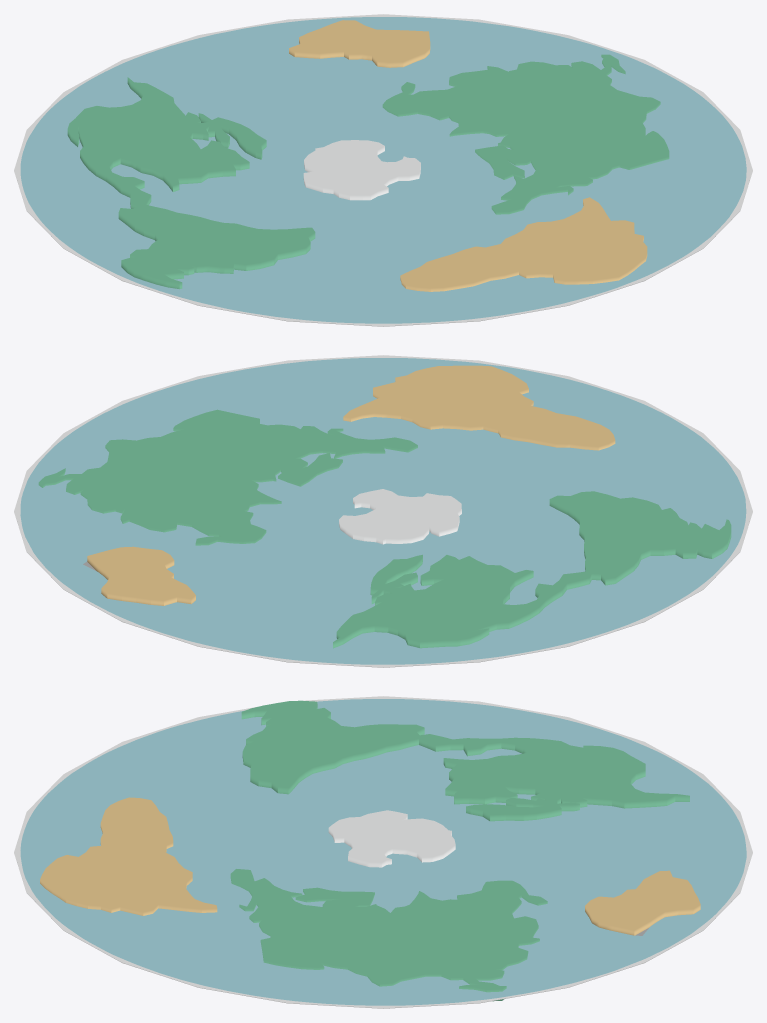
The model's file is earth.fbx.
3 renders of one model, top to bottom at view 1: azimuth 30°, elevation 25°; view 2: azimuth 150°, elevation 25°; view 3: azimuth 270°, elevation 25°, orthographic.
Parts seen in each view (by area): view 1: ocean, eurasia, america, africa, antarctica, australia, disc; view 2: ocean, eurasia, america, africa, antarctica, australia, disc; view 3: ocean, america, eurasia, africa, antarctica, australia, disc.
Part boxes in pixels (<box>): ocean: <box>14,14,752,326</box>; eurasia: <box>382,54,669,214</box>; america: <box>67,77,315,289</box>; africa: <box>400,197,647,291</box>; antarctica: <box>303,140,420,200</box>; australia: <box>289,20,430,67</box>; disc: <box>17,180,749,326</box>; ocean: <box>14,355,752,667</box>; eurasia: <box>38,409,417,545</box>; america: <box>333,491,731,648</box>; africa: <box>343,365,615,450</box>; antarctica: <box>339,489,461,544</box>; australia: <box>87,546,195,605</box>; disc: <box>17,521,749,667</box>; ocean: <box>14,696,752,1008</box>; america: <box>241,700,689,821</box>; eurasia: <box>230,869,547,1001</box>; africa: <box>40,797,217,915</box>; antarctica: <box>328,810,455,867</box>; australia: <box>585,870,700,935</box>; disc: <box>17,862,749,1008</box>.
Size of the model in its own units: 18.99 by 0.5301 by 18.99.
